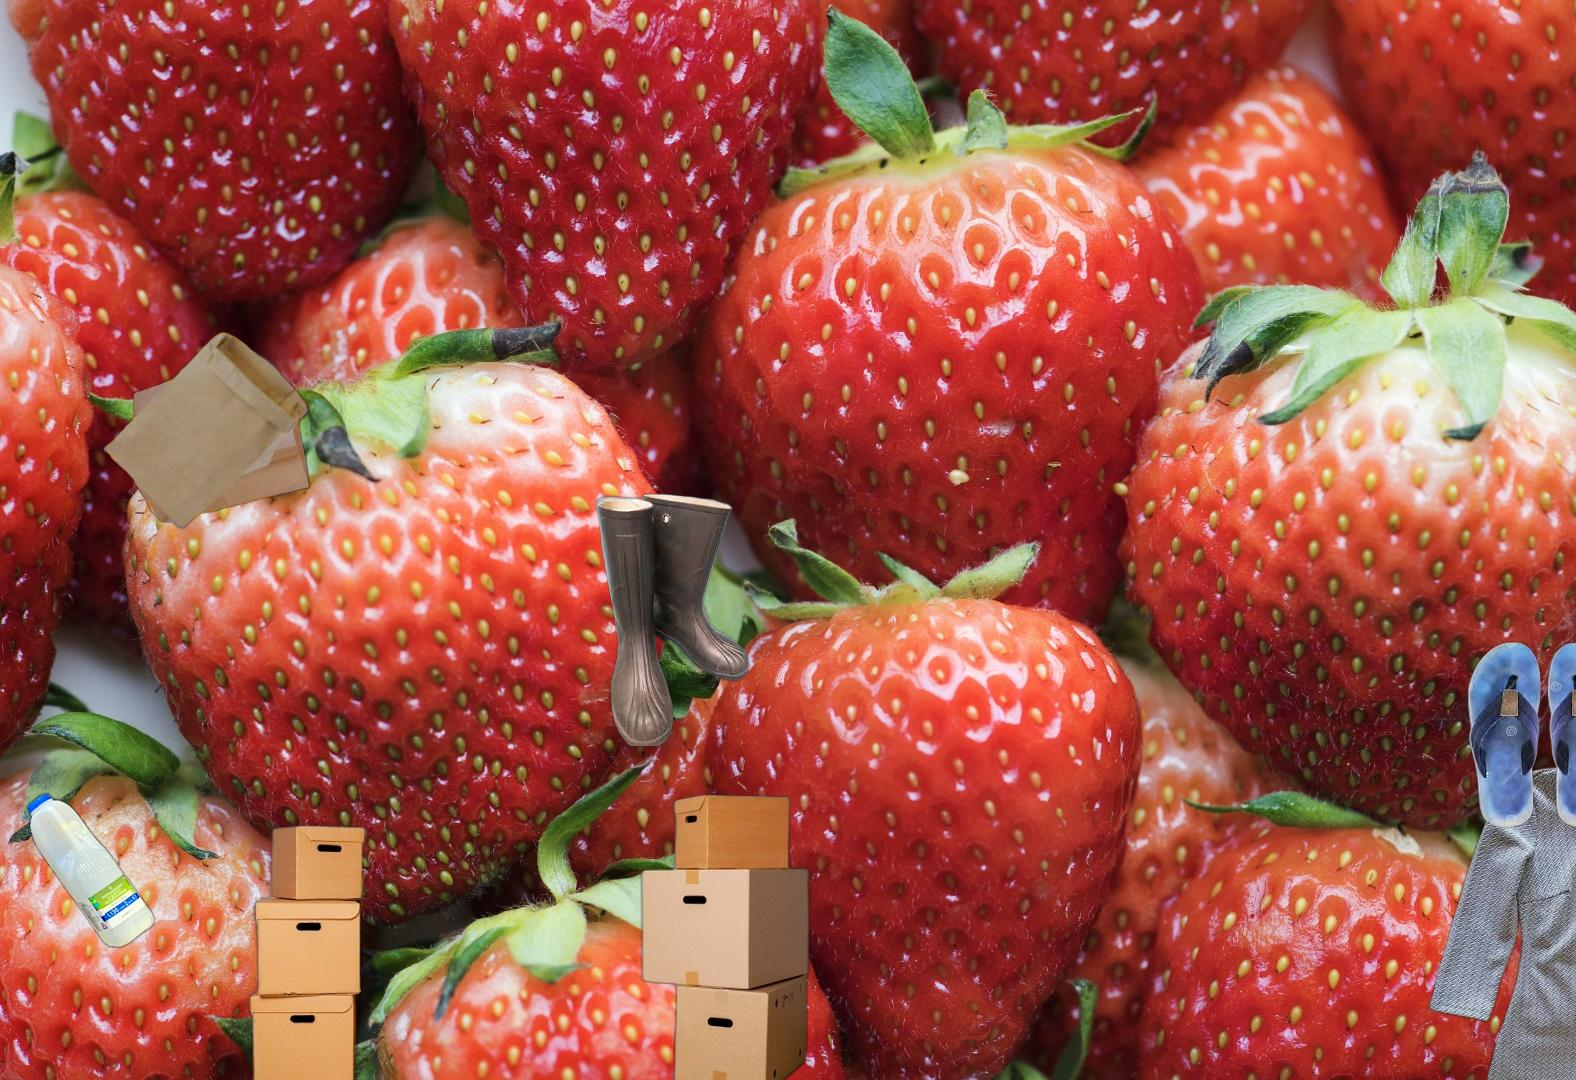clothes: (1423, 763, 1576, 1080)
paper-bag: (101, 329, 313, 532)
plastic-bottles: (23, 788, 159, 954)
shoes: (593, 491, 752, 746), (1465, 641, 1576, 830)
trashbox-cardboard: (244, 791, 814, 1080)
